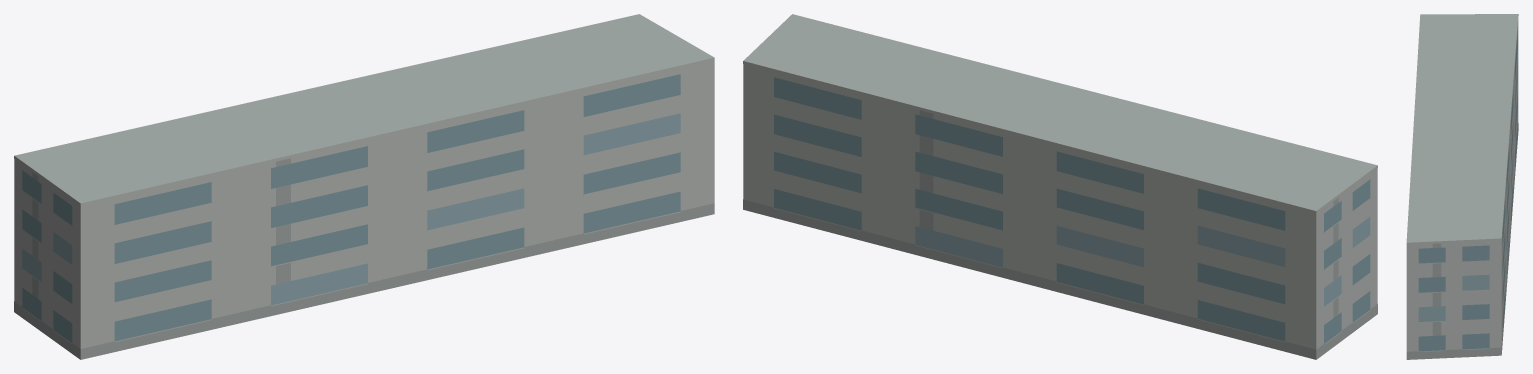
File: residential-cb114dcf-e1da-45da-8e8f-3e7e41ee90b5.glb
3 views of the same model, side by side, from view 1: azimuth 30°, elevation 25°; view 2: azimuth 150°, elevation 25°; view 3: azimuth 270°, elevation 25° (orthographic). The views are drawn at different scales.
Visible parts, largest first — view 1: residential-cb114dcf-e1da-45da-8e8f-3e7e41ee90b5.tmp; view 2: residential-cb114dcf-e1da-45da-8e8f-3e7e41ee90b5.tmp; view 3: residential-cb114dcf-e1da-45da-8e8f-3e7e41ee90b5.tmp.
Boxes of the visible parts, x1=… form: residential-cb114dcf-e1da-45da-8e8f-3e7e41ee90b5.tmp: x1=14, y1=14, x2=714, y2=359; residential-cb114dcf-e1da-45da-8e8f-3e7e41ee90b5.tmp: x1=743, y1=14, x2=1377, y2=359; residential-cb114dcf-e1da-45da-8e8f-3e7e41ee90b5.tmp: x1=1406, y1=14, x2=1518, y2=359.
Size of the model in its own units: 51.07 by 12.2 by 10.57.
